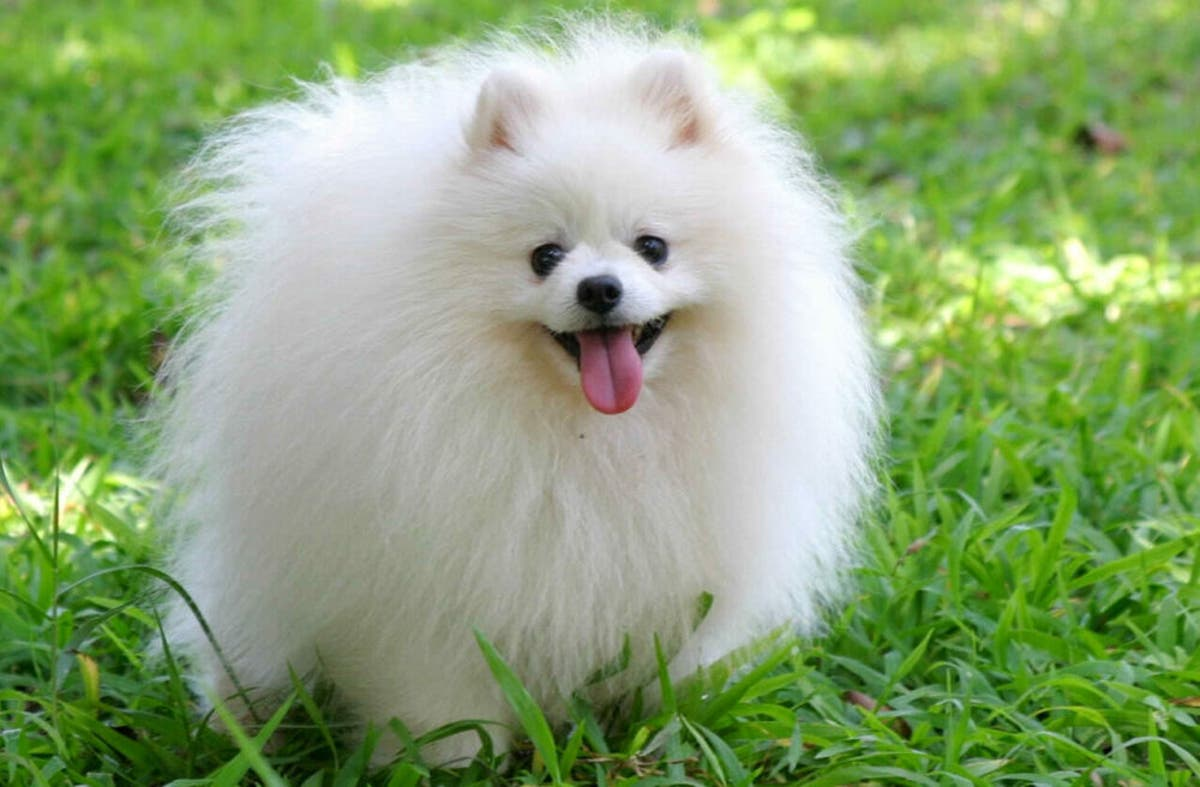dog: (128, 1, 901, 770)
